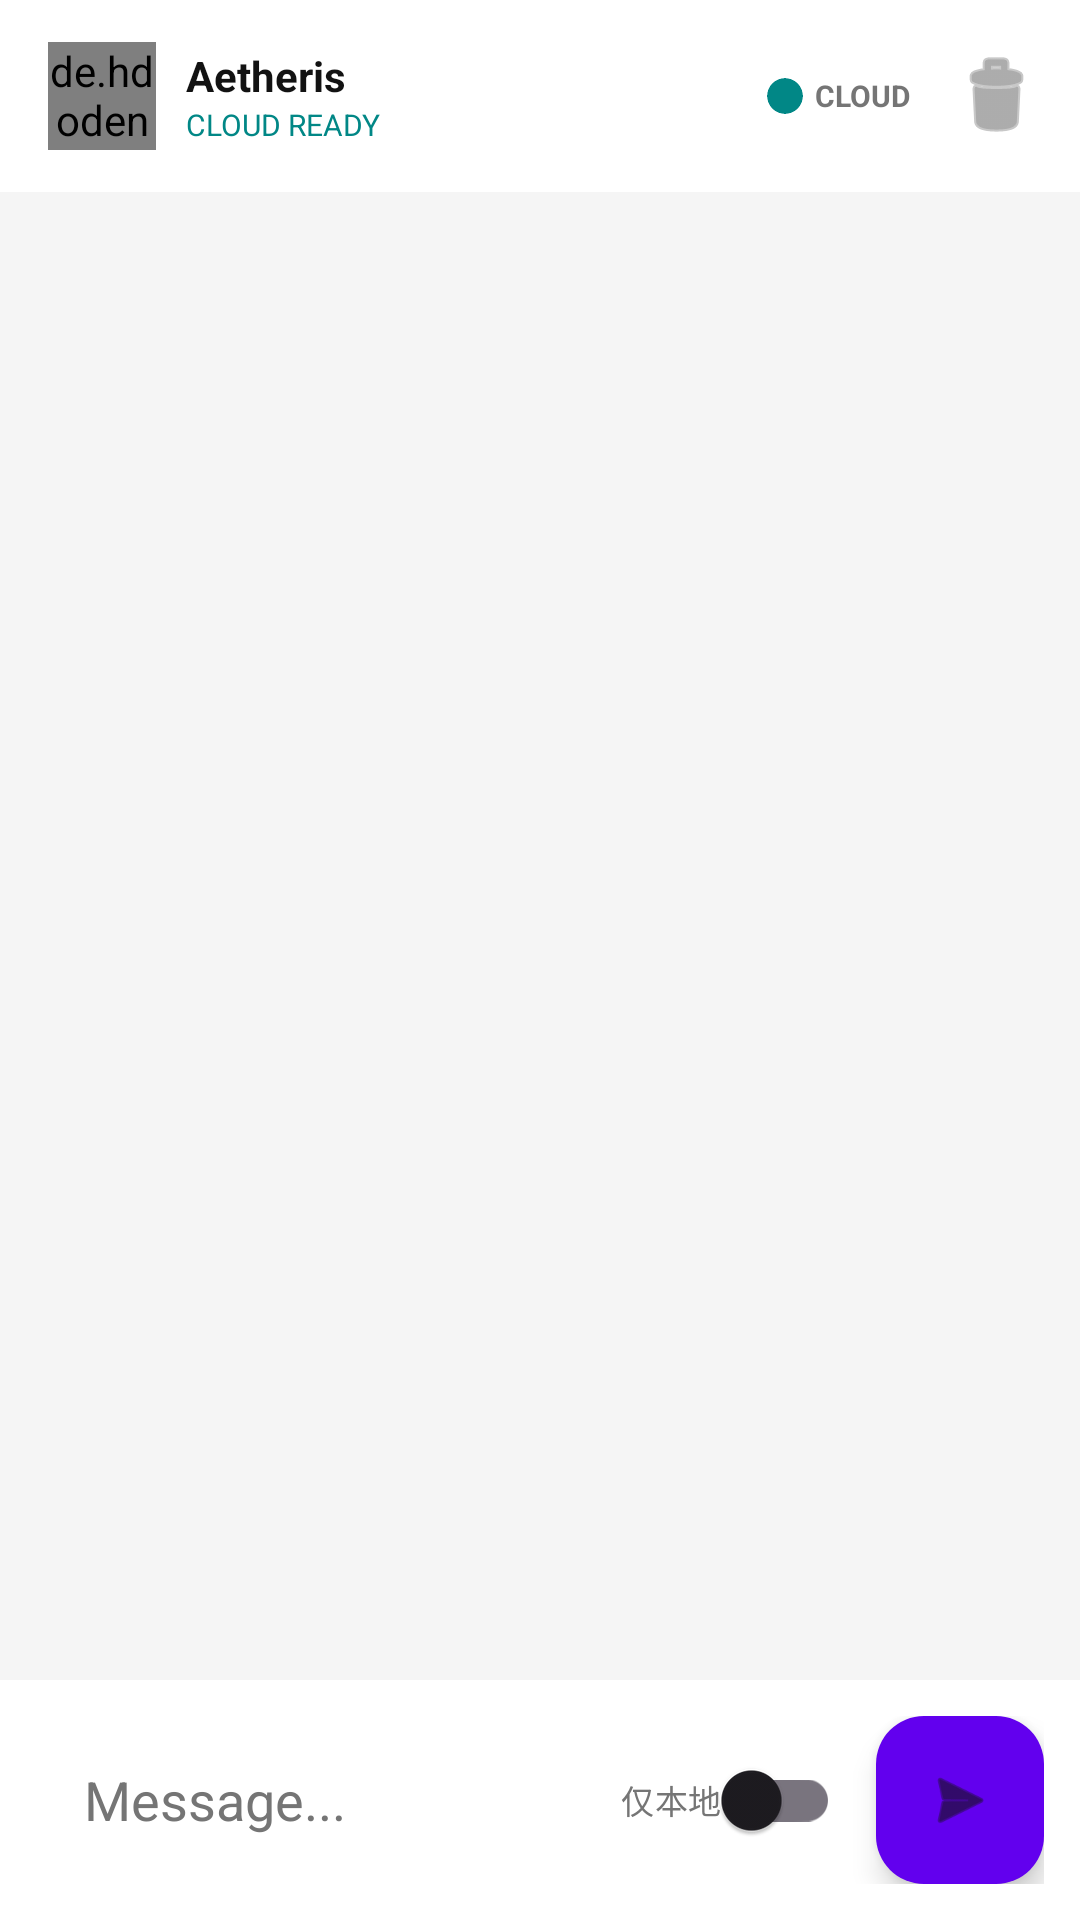

Icon bounding boxes for this 1080w x 1920h phone screenshot, format (x1, y1, x2, y2):
send: (876, 1716, 1044, 1884)
清空当前对话: (970, 57, 1023, 132)
